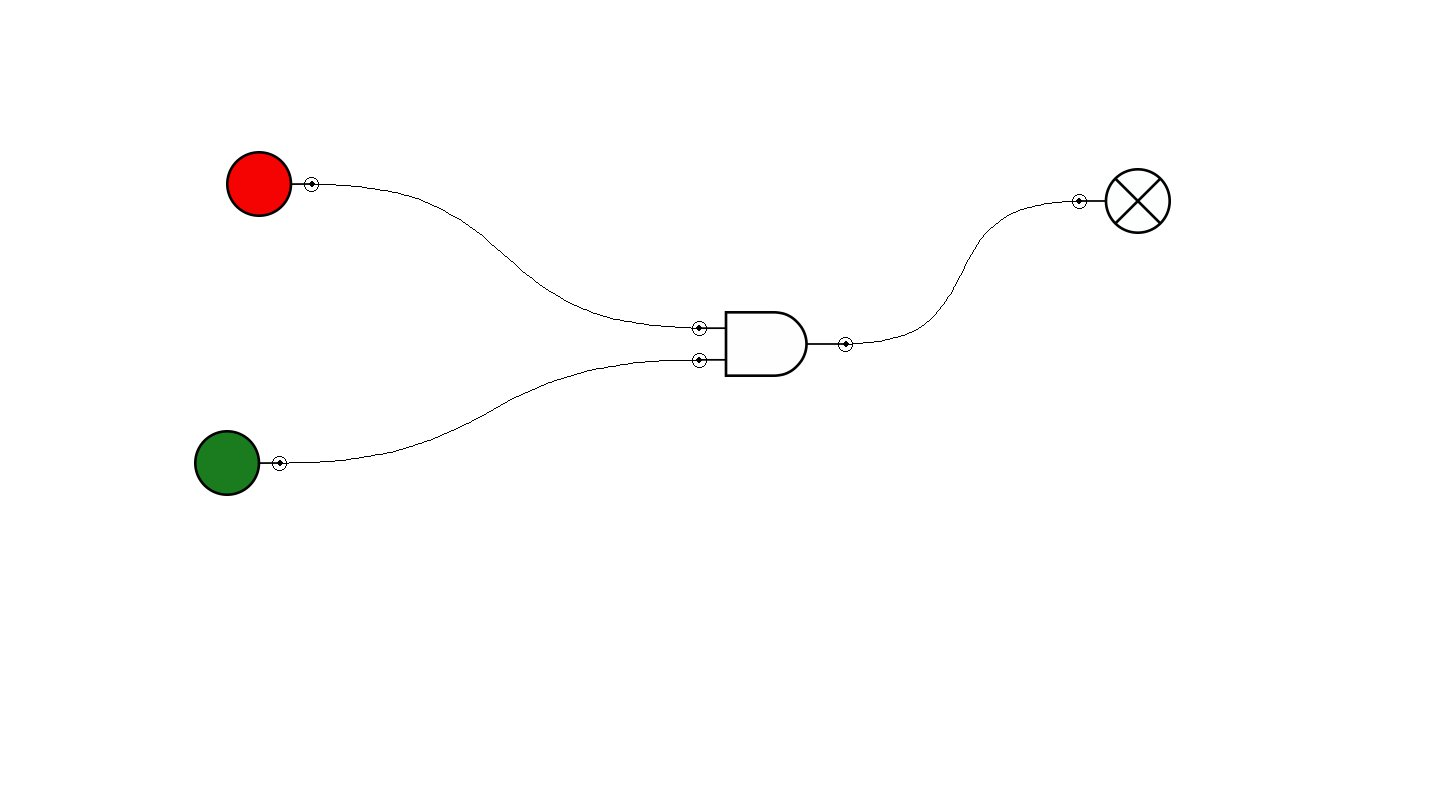and: (692, 311, 853, 377)
bulb: (1072, 168, 1171, 234)
switch_False: (226, 151, 319, 217)
switch_True: (194, 430, 287, 496)
